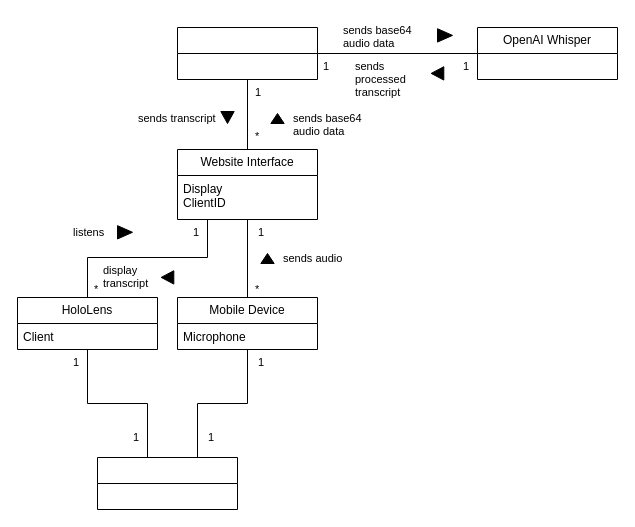
The diagram is 635 pixels wide and 527 high, and some of its shapes have lost their labels. The centre of each missing label's shape, as x and y in pixels:
"Server" belongs at point (247, 53).
"User" belongs at point (167, 483).
